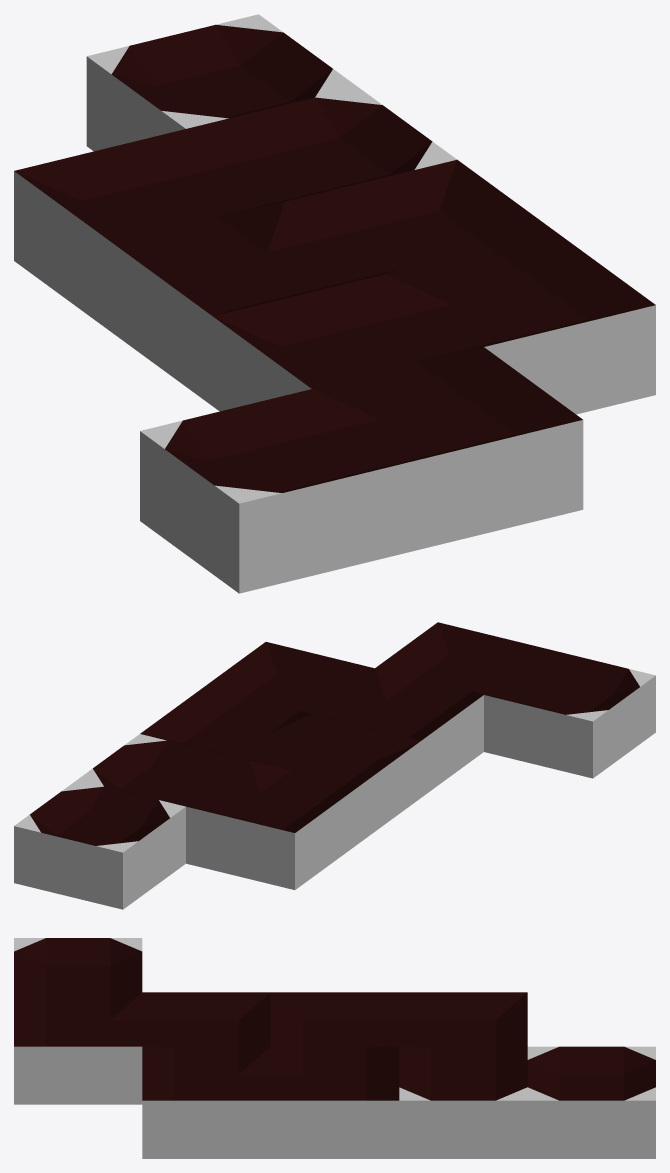
The model's file is 24s_path.obj.
3 views of the same model, one above another, from view 1: azimuth 30°, elevation 25°; view 2: azimuth 150°, elevation 25°; view 3: azimuth 270°, elevation 25° (orthographic). The views are drawn at different scales.
Parts seen in each view (by area): view 1: ending.2.0_ending.093, corner.3.0_corner.230, corner.3.3_corner.233, corner.4.1_corner.234, corner.3.1_corner.231, hole.4.4_Cube.048, corner.4.2_corner.235, corner.3.2_corner.232, ending.4.3_ending.094; view 2: hole.4.4_Cube.048, ending.2.0_ending.093, corner.3.3_corner.233, corner.3.2_corner.232, corner.3.0_corner.230, corner.4.1_corner.234, corner.3.1_corner.231, ending.4.3_ending.094, corner.4.2_corner.235; view 3: hole.4.4_Cube.048, corner.4.2_corner.235, corner.3.0_corner.230, corner.4.1_corner.234, ending.4.3_ending.094, corner.3.2_corner.232, corner.3.1_corner.231, corner.3.3_corner.233, ending.2.0_ending.093.
Part boxes in pixels (bbox=[...]): ending.2.0_ending.093: bbox=[140, 389, 411, 593]; corner.3.0_corner.230: bbox=[312, 347, 583, 551]; corner.3.3_corner.233: bbox=[14, 129, 284, 333]; corner.4.1_corner.234: bbox=[385, 232, 655, 414]; corner.3.1_corner.231: bbox=[212, 274, 483, 411]; hole.4.4_Cube.048: bbox=[86, 14, 357, 151]; corner.4.2_corner.235: bbox=[285, 159, 556, 286]; corner.3.2_corner.232: bbox=[113, 202, 382, 405]; ending.4.3_ending.094: bbox=[186, 87, 456, 205]; hole.4.4_Cube.048: bbox=[14, 780, 185, 909]; ending.2.0_ending.093: bbox=[484, 649, 655, 778]; corner.3.3_corner.233: bbox=[186, 761, 357, 889]; corner.3.2_corner.232: bbox=[249, 714, 420, 843]; corner.3.0_corner.230: bbox=[375, 622, 546, 702]; corner.4.1_corner.234: bbox=[203, 642, 374, 721]; corner.3.1_corner.231: bbox=[315, 668, 483, 797]; ending.4.3_ending.094: bbox=[77, 734, 248, 809]; corner.4.2_corner.235: bbox=[140, 688, 311, 763]; hole.4.4_Cube.048: bbox=[527, 1046, 655, 1158]; corner.4.2_corner.235: bbox=[270, 1047, 399, 1158]; corner.3.0_corner.230: bbox=[14, 992, 142, 1104]; corner.4.1_corner.234: bbox=[142, 1046, 270, 1158]; ending.4.3_ending.094: bbox=[399, 1046, 527, 1158]; corner.3.2_corner.232: bbox=[270, 992, 399, 1060]; corner.3.1_corner.231: bbox=[142, 992, 270, 1060]; corner.3.3_corner.233: bbox=[399, 992, 527, 1060]; ending.2.0_ending.093: bbox=[14, 938, 142, 1006].
Size of the model in its own units: 6 by 1 by 10.
